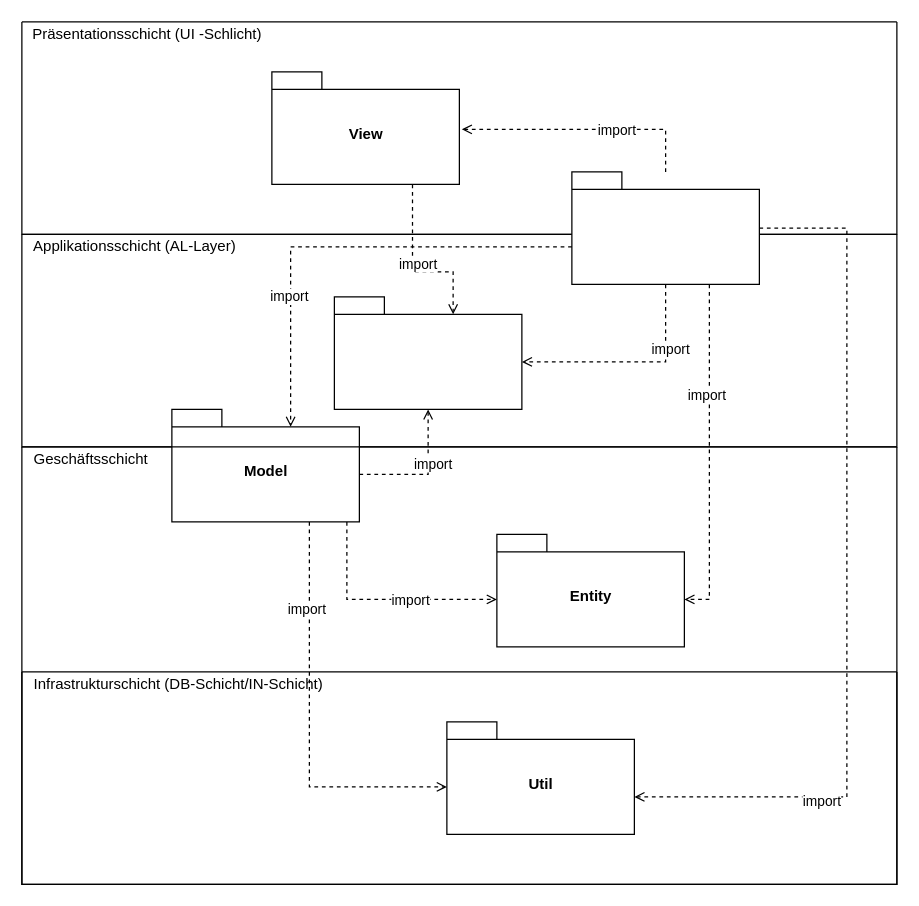
Some shapes in this 919 by 906 pixel diagram are drawn without their labels. Here are the shapes that lost their labels. From the top down, the centre of each, then its label:
At pixel 665 227: "Controller".
At pixel 427 352: "Exception".
